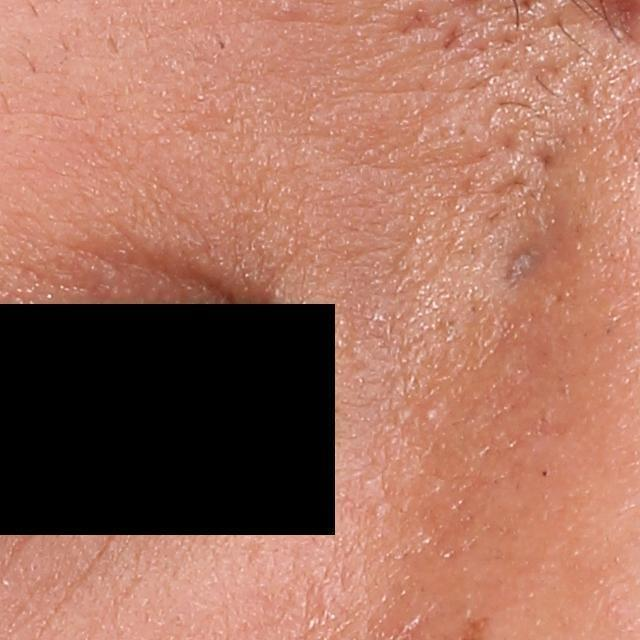comedo: (421, 403, 442, 423)
